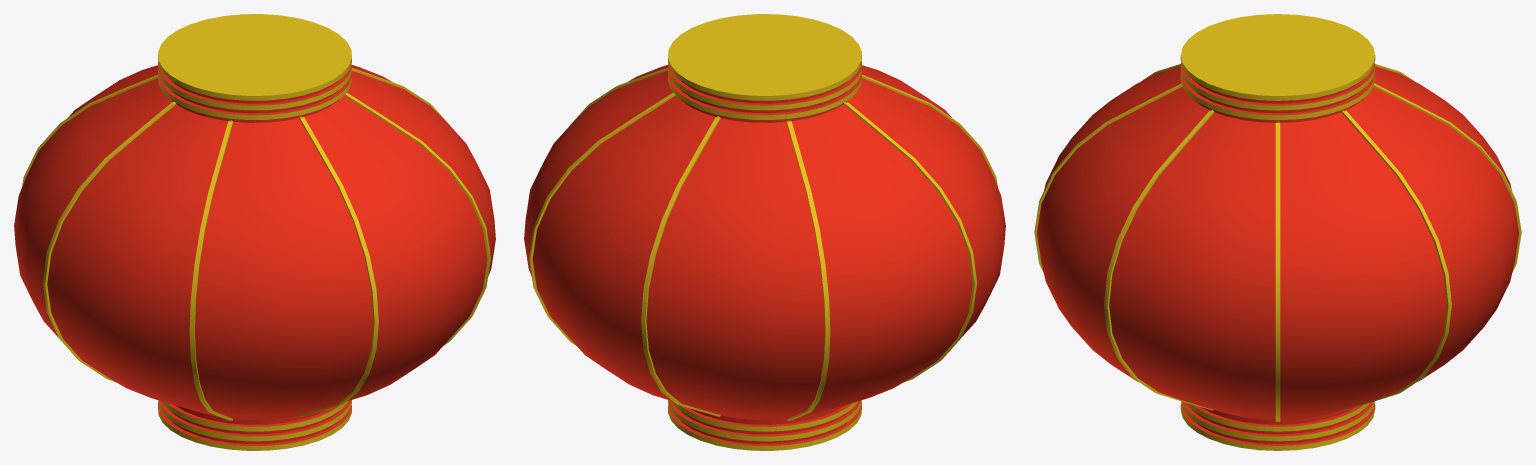
The model's file is chineseLantern2.fbx.
3 views of the same model, side by side, from view 1: azimuth 30°, elevation 25°; view 2: azimuth 150°, elevation 25°; view 3: azimuth 270°, elevation 25° (orthographic).
Visible parts, largest first — view 1: Lantern; view 2: Lantern; view 3: Lantern.
Part boxes in pixels (x1,y1,x2,y2): Lantern: [14, 14, 495, 450]; Lantern: [524, 14, 1005, 450]; Lantern: [1034, 14, 1521, 450].
Bounding box in the file's own units: 402 × 323 × 402.
